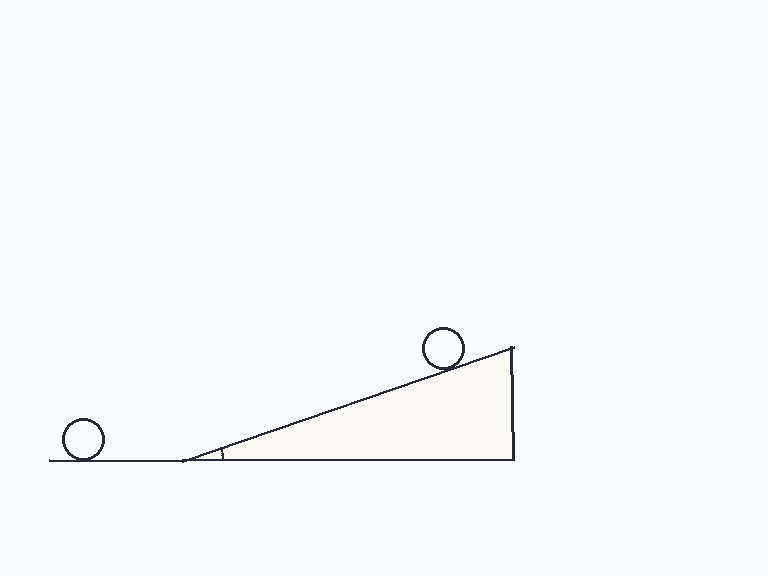ball: (420, 325, 466, 371), (60, 416, 106, 462)
ramp: (181, 344, 515, 462)
